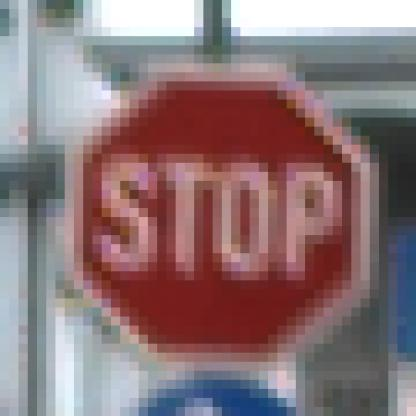Stop: (76, 74, 361, 368)
